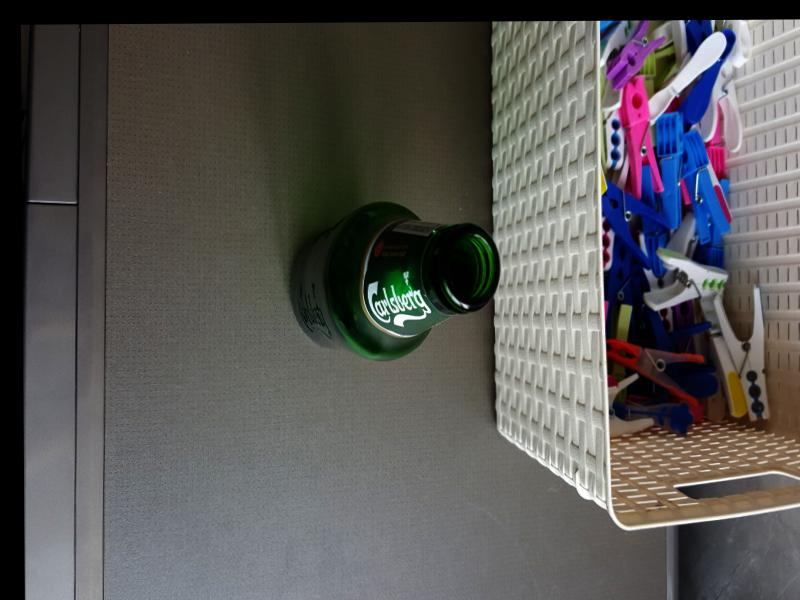Beer: (287, 201, 499, 363)
